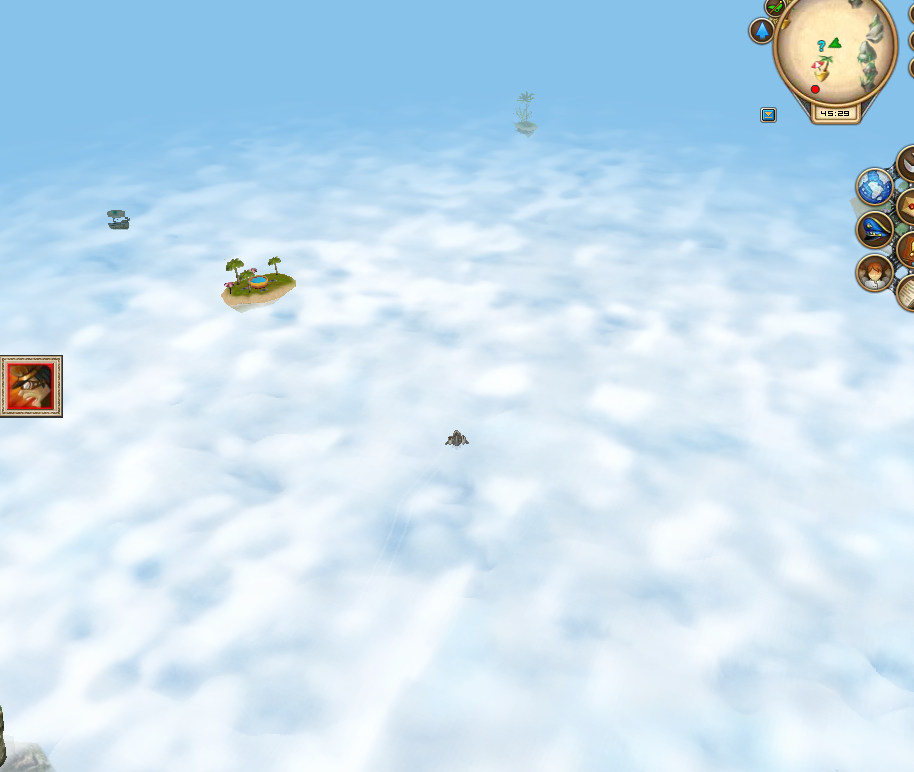palm: (508, 86, 541, 137)
